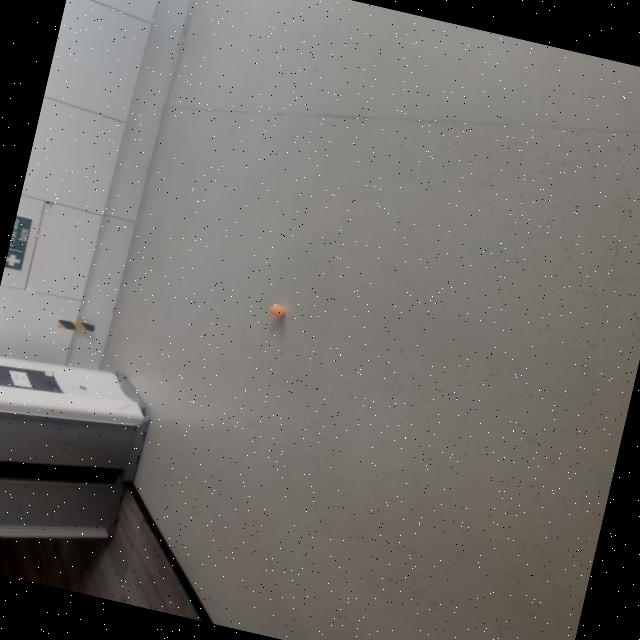ping-pong-ball: (268, 302, 286, 318)
